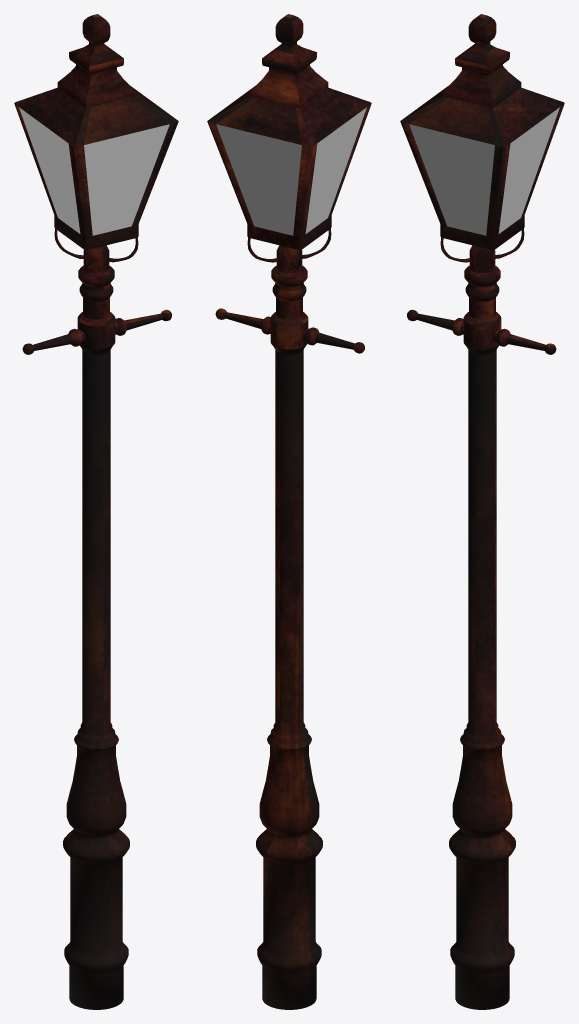
Rendered from lamparaTony.obj.
The picture shows the model from 3 angles, left to right: view 1: azimuth 30°, elevation 25°; view 2: azimuth 150°, elevation 25°; view 3: azimuth 330°, elevation 25°; orthographic projection.
Visible parts, largest first — view 1: Old_English_Street_Lamp_Cylinder.006_copper, vidrio_Glass_Material; view 2: Old_English_Street_Lamp_Cylinder.006_copper, vidrio_Glass_Material; view 3: Old_English_Street_Lamp_Cylinder.006_copper, vidrio_Glass_Material.
Boxes of the visible parts, x1,y1,x2,y2 form: Old_English_Street_Lamp_Cylinder.006_copper: (14,14,178,1009); vidrio_Glass_Material: (19,107,169,235); Old_English_Street_Lamp_Cylinder.006_copper: (207,14,371,1009); vidrio_Glass_Material: (216,107,366,235); Old_English_Street_Lamp_Cylinder.006_copper: (400,14,564,1009); vidrio_Glass_Material: (409,107,559,235).
Size of the model in its own units: 1.41 by 9.05 by 1.02.
